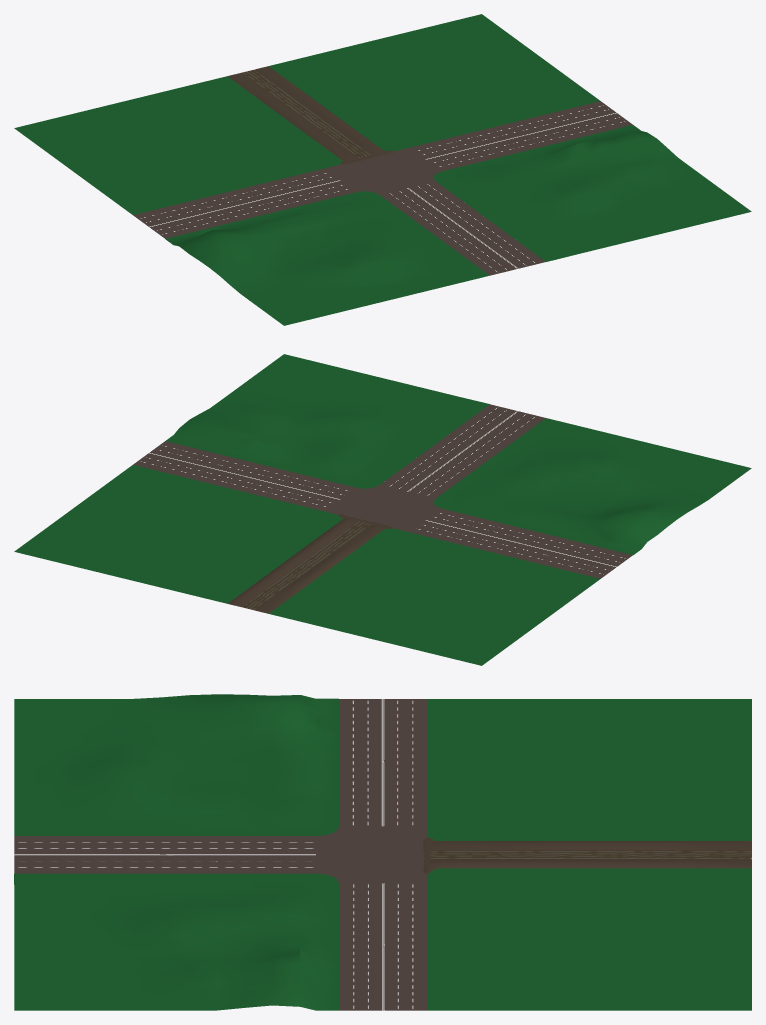
Rendered from TileHighwayForest1.fbx.
3 views of the same model, one above another, from view 1: azimuth 30°, elevation 25°; view 2: azimuth 150°, elevation 25°; view 3: azimuth 270°, elevation 25° (orthographic). The views are drawn at different scales.
Visible parts, largest first — view 1: Plane.049, Plane.070, Road.003, Road.005, Road.004, Plane.048, Road1.022, Road.006; view 2: Plane.049, Plane.070, Road.003, Road.005, Road.004, Plane.048, Road1.022, Road.006; view 3: Plane.049, Plane.070, Road.004, Road.003, Road.005, Plane.048, Road1.022, Road.006.
Boxes of the visible parts, box(x1,y1,x2,y2) form: Plane.049: box(14, 14, 599, 214); Plane.070: box(165, 125, 751, 325); Road.003: box(409, 101, 632, 171); Road.005: box(133, 168, 356, 238); Road.004: box(380, 181, 545, 275); Plane.048: box(227, 66, 395, 164); Road1.022: box(324, 148, 441, 194); Road.006: box(241, 69, 371, 158); Plane.049: box(14, 465, 599, 665); Plane.070: box(166, 354, 751, 555); Road.003: box(133, 441, 356, 511); Road.005: box(409, 508, 632, 578); Road.004: box(380, 404, 545, 498); Plane.048: box(227, 514, 392, 613); Road1.022: box(324, 485, 441, 531); Road.006: box(241, 521, 371, 610); Plane.049: box(427, 699, 751, 1010); Plane.070: box(14, 694, 338, 1010); Road.004: box(14, 836, 315, 873); Road.003: box(339, 883, 427, 1010); Road.005: box(339, 699, 427, 826); Plane.048: box(423, 837, 751, 873); Road1.022: box(316, 826, 427, 883); Road.006: box(431, 850, 751, 859).
Bounding box in the file's own units: 20013 × 554 × 20010.
